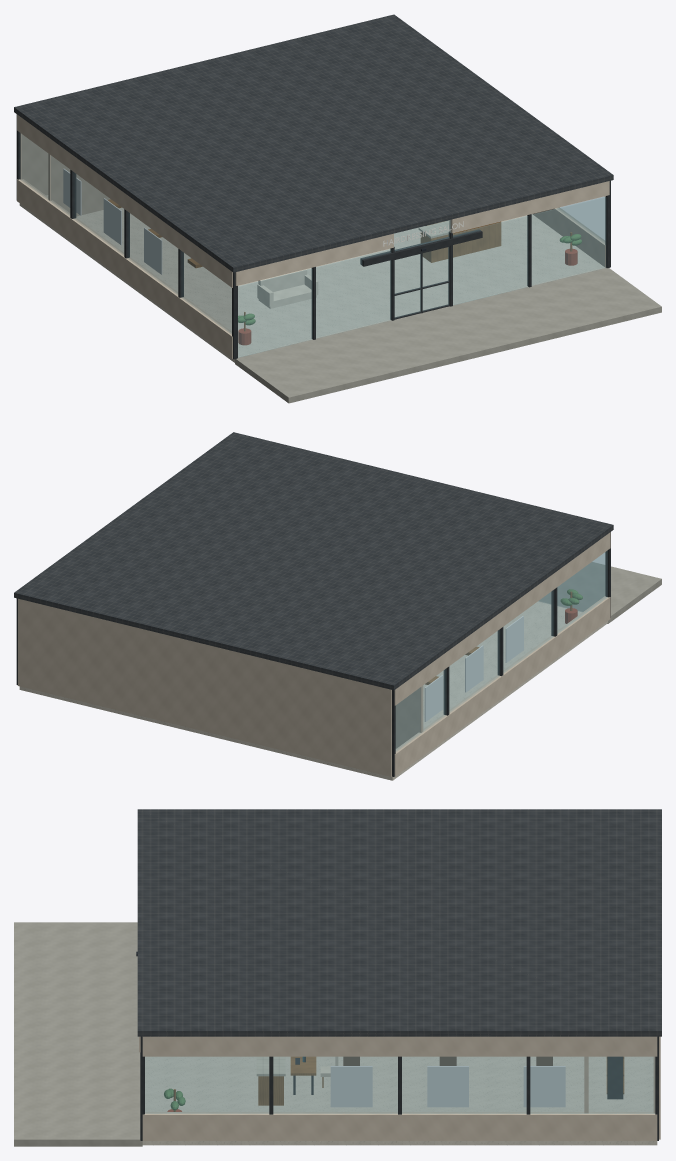
Rendered from 01_Hairdressing_Salon_LOD1.glb.
3 renders of one model, top to bottom at view 1: azimuth 30°, elevation 25°; view 2: azimuth 150°, elevation 25°; view 3: azimuth 270°, elevation 25°, orthographic. The views are drawn at different scales.
Parts seen in each view (by area): view 1: Roof, Floor, Approach, Front glazing, Front glazing.001, Side glazing, Side base wall, Side upper wall, Front band.001, Front band, Side base wall.001, Door glass (+11 smaller); view 2: Roof, Rear wall, Side glazing, Side base wall, Floor, Side upper wall, Approach, Front glazing, Internal partition, Mirror.002, Mirror.001, Mirror; view 3: Roof, Side glazing.001, Approach, Floor, Side base wall.001, Side upper wall.001, Mirror.003, Mirror.004, Mirror.005, Shelf upright.001, Service counter, Stone countertop.
Part boxes in pixels (<box>): Roof: <box>14,14,613,272</box>; Floor: <box>19,195,605,362</box>; Approach: <box>235,268,661,403</box>; Front glazing: <box>238,249,391,357</box>; Front glazing.001: <box>453,197,606,304</box>; Side glazing: <box>20,133,231,333</box>; Side base wall: <box>17,179,232,358</box>; Side upper wall: <box>17,114,232,287</box>; Front band.001: <box>449,181,609,233</box>; Front band: <box>235,233,393,285</box>; Side base wall.001: <box>532,207,605,267</box>; Door glass: <box>395,254,420,317</box>; Roof: <box>14,432,613,690</box>; Rear wall: <box>18,598,391,776</box>; Side glazing: <box>396,551,607,751</box>; Side base wall: <box>394,596,610,776</box>; Floor: <box>19,601,607,780</box>; Side upper wall: <box>394,532,610,705</box>; Approach: <box>539,562,661,623</box>; Front glazing: <box>539,553,604,611</box>; Internal partition: <box>395,685,423,748</box>; Mirror.002: <box>424,675,443,721</box>; Mirror.001: <box>465,645,483,692</box>; Mirror: <box>505,616,523,662</box>; Roof: <box>137,809,661,1036</box>; Side glazing.001: <box>145,1057,654,1113</box>; Approach: <box>14,922,142,1146</box>; Floor: <box>142,1056,657,1145</box>; Side base wall.001: <box>142,1112,657,1140</box>; Side upper wall.001: <box>142,1036,657,1056</box>; Mirror.003: <box>330,1066,372,1107</box>; Mirror.004: <box>427,1066,468,1107</box>; Mirror.005: <box>523,1066,565,1107</box>; Shelf upright.001: <box>607,1056,623,1099</box>; Service counter: <box>258,1076,283,1105</box>; Stone countertop: <box>256,1056,285,1076</box>.
Size of the model in its own units: 16.3 by 4.04 by 20.15.
19 materials, 11 textured.
